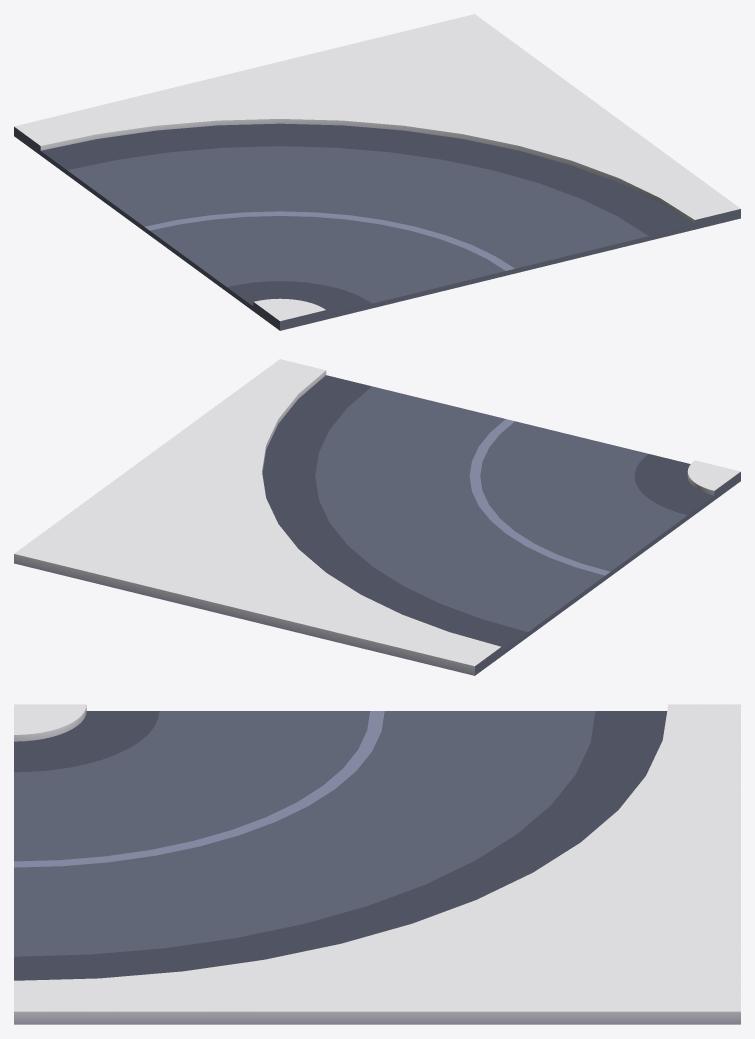
The model's file is road-bend-sidewalk.glb.
3 views of the same model, one above another, from view 1: azimuth 30°, elevation 25°; view 2: azimuth 150°, elevation 25°; view 3: azimuth 270°, elevation 25° (orthographic). The views are drawn at different scales.
Parts seen in each view (by area): view 1: road-bend-sidewalk; view 2: road-bend-sidewalk; view 3: road-bend-sidewalk.
Boxes of the visible parts, left/top/right/bottom form: road-bend-sidewalk: left=14, top=14, right=740, bottom=330; road-bend-sidewalk: left=14, top=359, right=740, bottom=675; road-bend-sidewalk: left=14, top=704, right=740, bottom=1024.
Size of the model in its own units: 1 by 0.02 by 1.
Materials: 1 (1 with a texture image).
